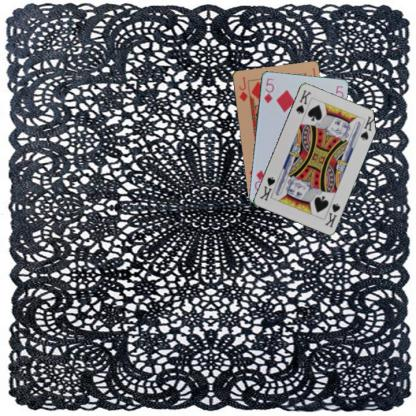5d: (261, 76, 275, 104)
Jd: (236, 74, 249, 103)
Ks: (293, 87, 313, 115), (322, 201, 341, 228)
